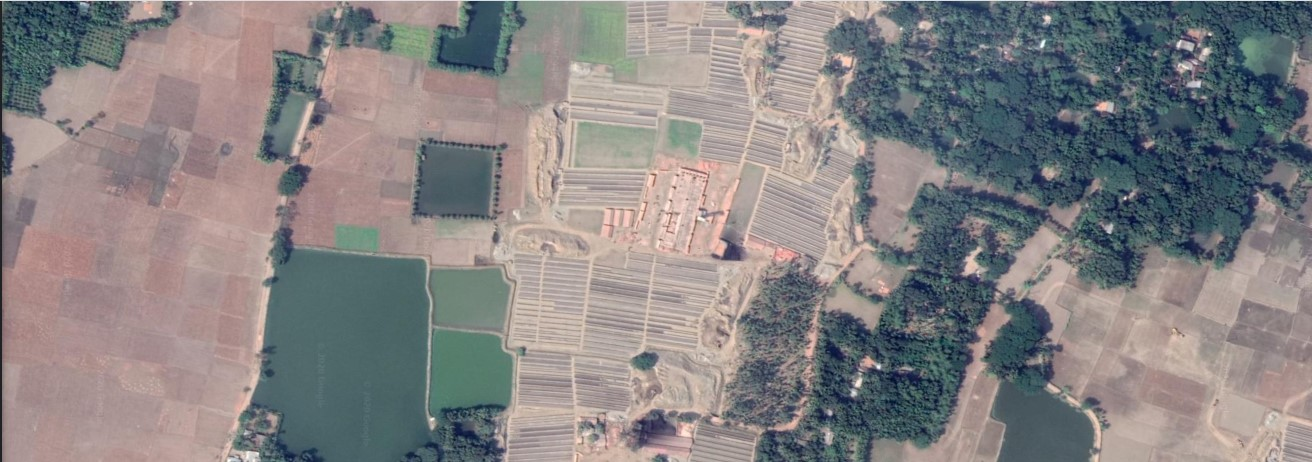kiln: (656, 159, 729, 257)
